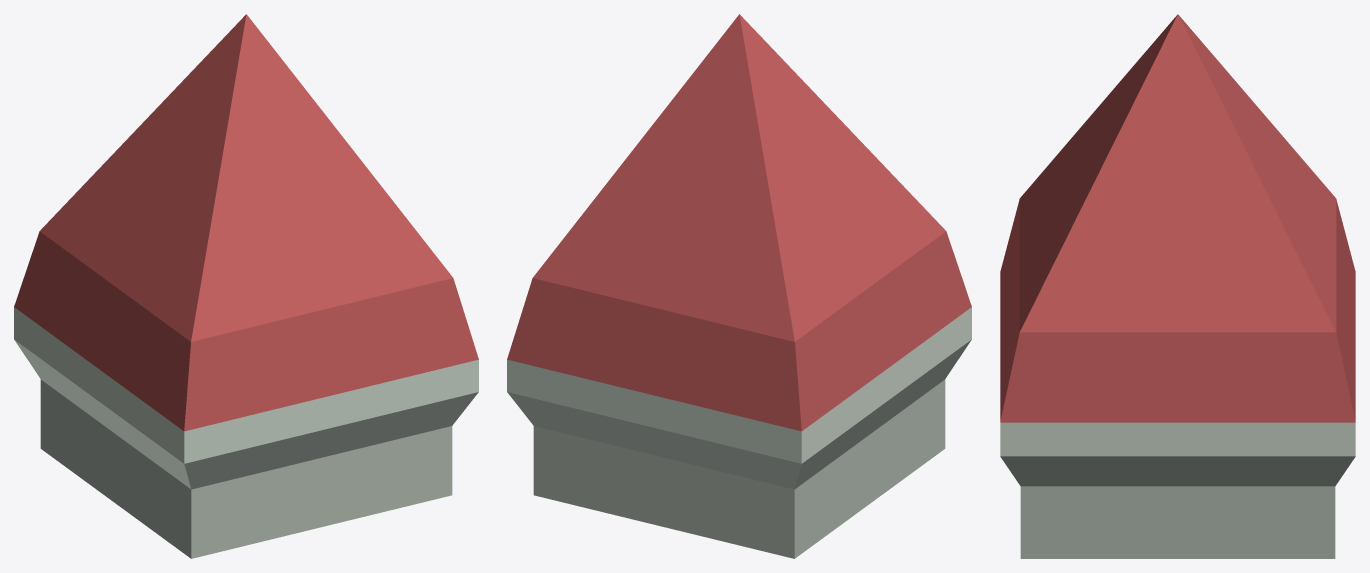
File: tile_053.dae
3 renders of one model, left to right at view 1: azimuth 30°, elevation 25°; view 2: azimuth 150°, elevation 25°; view 3: azimuth 270°, elevation 25°, orthographic. The views are drawn at different scales.
Parts seen in each view (by area): view 1: tile_053; view 2: tile_053; view 3: tile_053.
Boxes of the visible parts, <box> form: tile_053: <box>14,14,478,558</box>; tile_053: <box>507,14,971,558</box>; tile_053: <box>1000,14,1355,558</box>.
Bounding box in the file's own units: 0.6668 × 0.99 × 0.6668.
